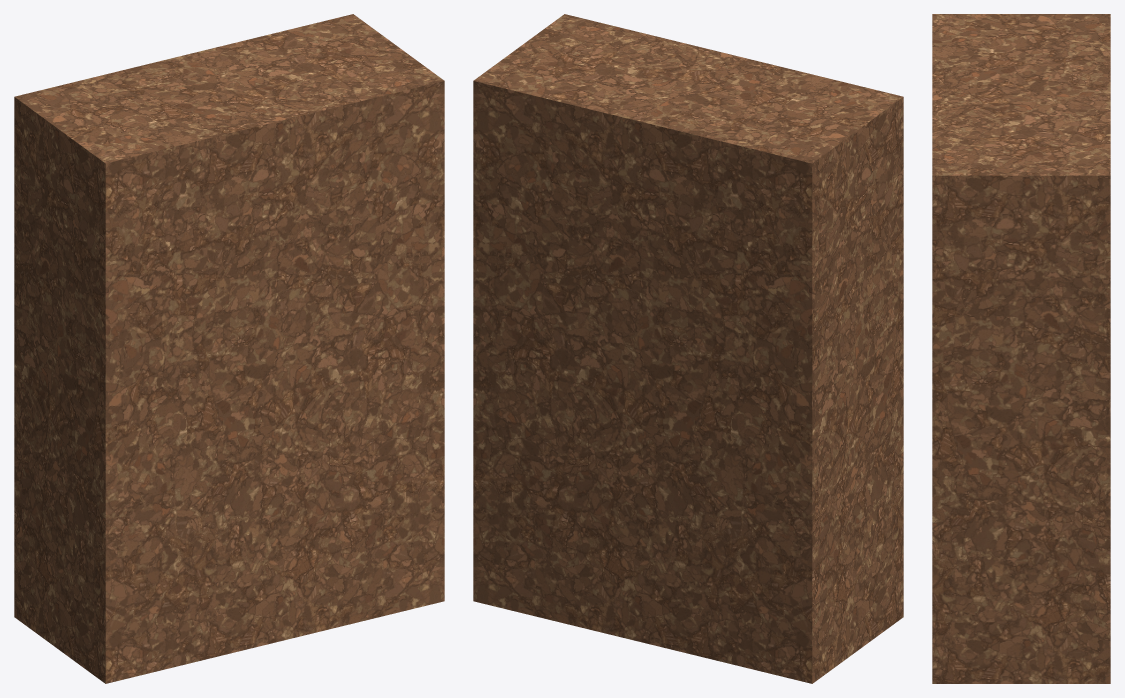
The model's file is yoga-block-cork.glb.
3 renders of one model, left to right at view 1: azimuth 30°, elevation 25°; view 2: azimuth 150°, elevation 25°; view 3: azimuth 270°, elevation 25°, orthographic. The views are drawn at different scales.
Visible parts, largest first — view 1: wood-grain-material-yoga-block; view 2: wood-grain-material-yoga-block; view 3: wood-grain-material-yoga-block.
Part boxes in pixels (<box>): wood-grain-material-yoga-block: <box>14,14,444,683</box>; wood-grain-material-yoga-block: <box>473,14,903,683</box>; wood-grain-material-yoga-block: <box>932,14,1110,683</box>.
Bounding box in the file's own units: 0.15 × 0.22 × 0.07.
Materials: 1 (1 with a texture image).
